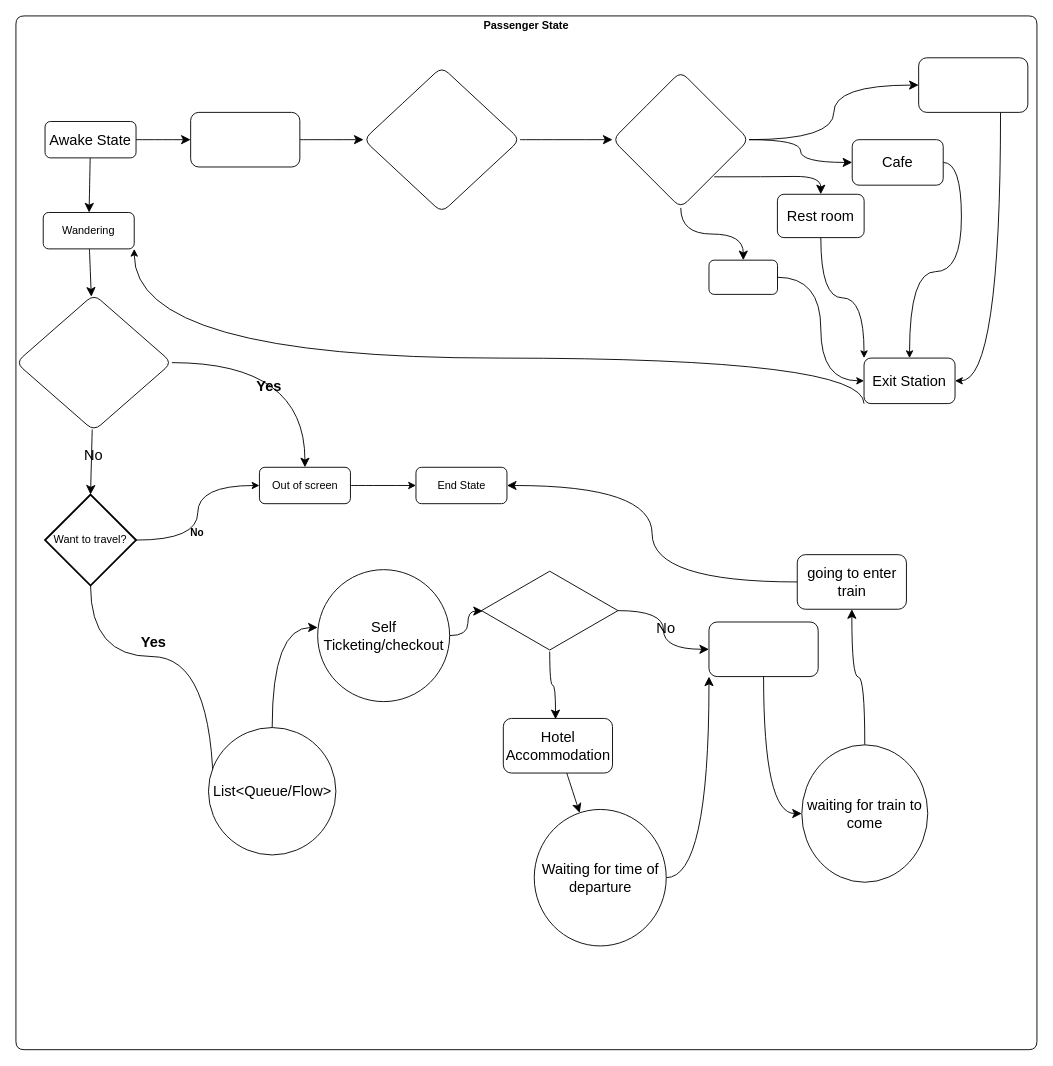
The diagram is 1053 pixels wide and 1066 high, and some of its shapes have lost their labels. The centre of each missing label's shape, as x and y in pixels:
Already travelled: the point at 93,362
Exited from train: the point at 245,139
Library: the point at 743,276
Long Wait Time?: the point at 549,610
Restaurant: the point at 973,84
to the waiting lobby: the point at 763,649
Want entertainment: the point at 441,139
What to do: the point at 680,139
